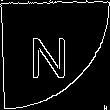N_N: (34, 29, 76, 81)
